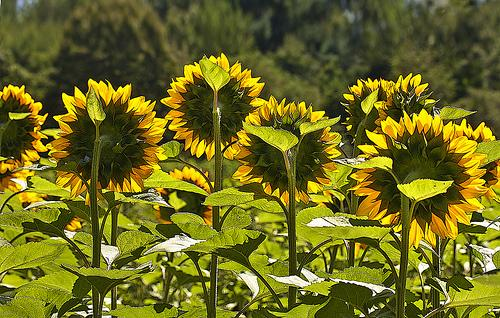sunflower: (352, 113, 486, 244), (48, 79, 166, 189), (238, 100, 339, 200), (164, 54, 259, 156), (0, 84, 46, 185)
